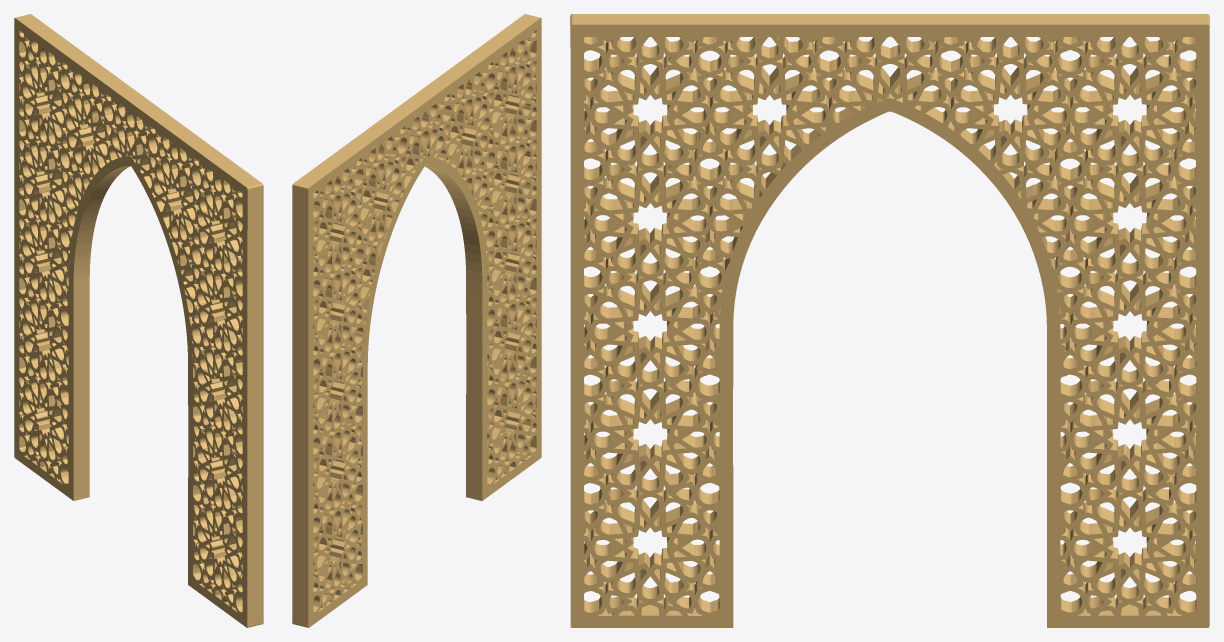
The model's file is Traditional Arabic door.fbx.
3 renders of one model, left to right at view 1: azimuth 30°, elevation 25°; view 2: azimuth 150°, elevation 25°; view 3: azimuth 270°, elevation 25°, orthographic. The views are drawn at different scales.
Visible parts, largest first — view 1: Curve.005; view 2: Curve.005; view 3: Curve.005.
Boxes of the visible parts, left/top/right/bottom form: Curve.005: left=14, top=14, right=263, bottom=627; Curve.005: left=292, top=14, right=541, bottom=627; Curve.005: left=570, top=14, right=1209, bottom=627.
Bounding box in the file's own units: 4.02 × 105 × 101.
